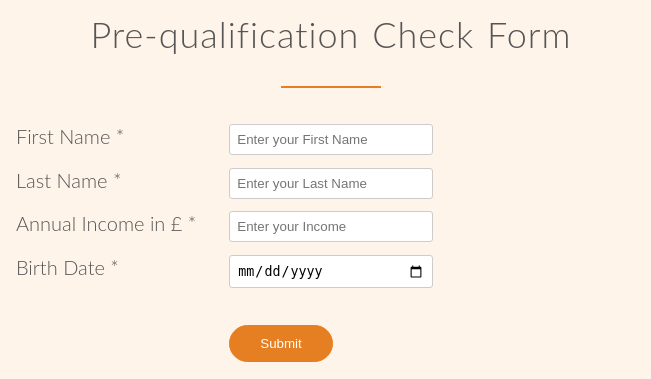
Scenario: form error message › last name empty error message
Clear the field with id "lastName". click: coordinates (331, 183)
box: x1=229 y1=168 x2=433 y2=199
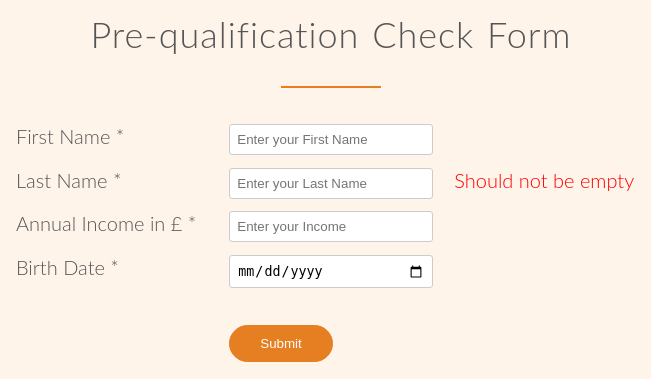
Expected: the text with id "formErrorLastName" reads "Should not be empty", x1=454 y1=168 x2=634 y2=192
